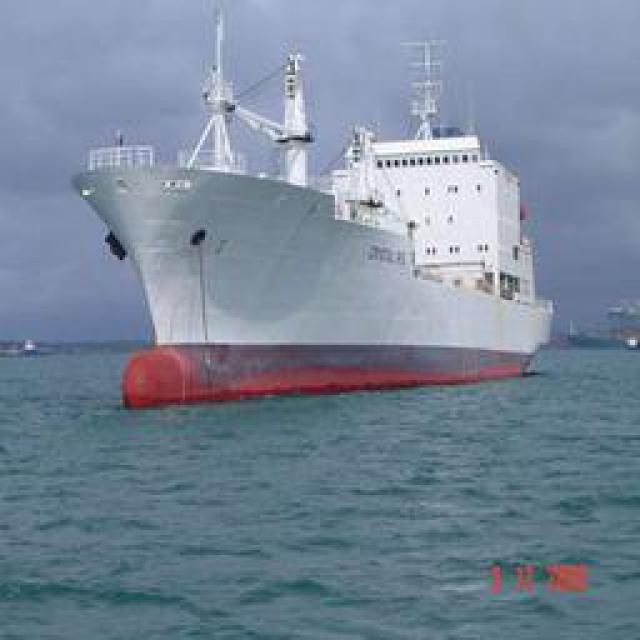Ship: (81, 20, 541, 395)
